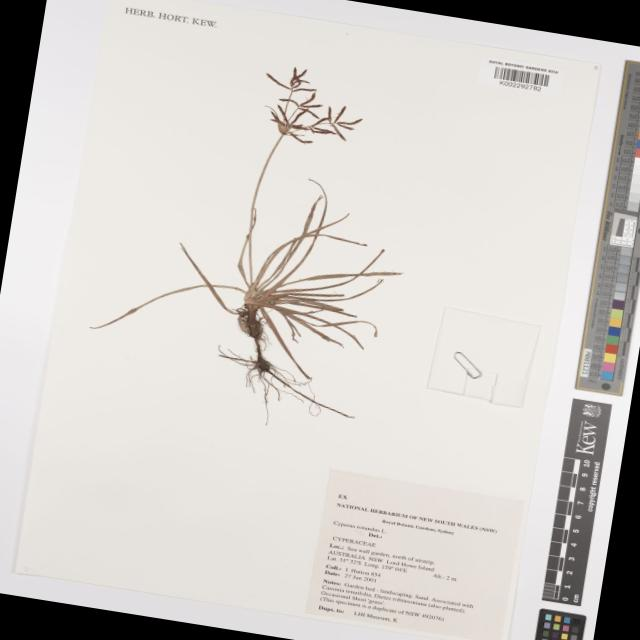cyperus: (248, 54, 370, 160)
